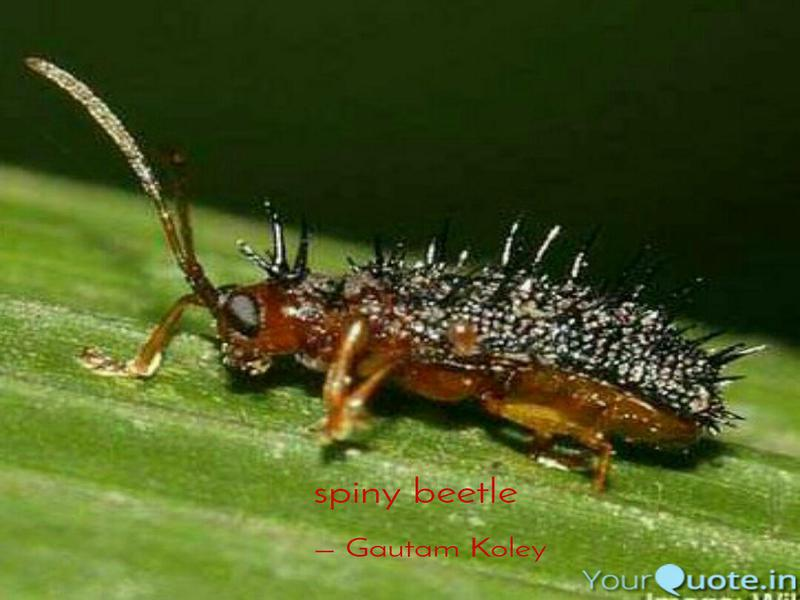Spiny_beetle: (154, 214, 745, 475)
